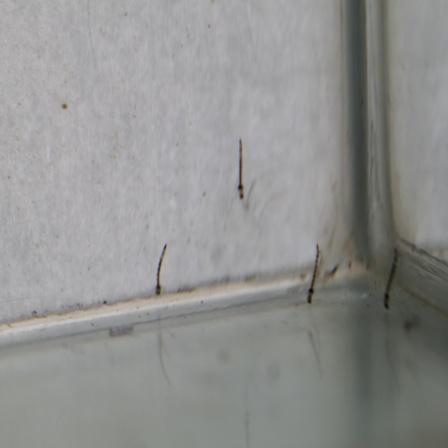Jentik-Nyamuk: (380, 247, 404, 310), (304, 241, 322, 306), (234, 137, 249, 203), (152, 243, 170, 297)
